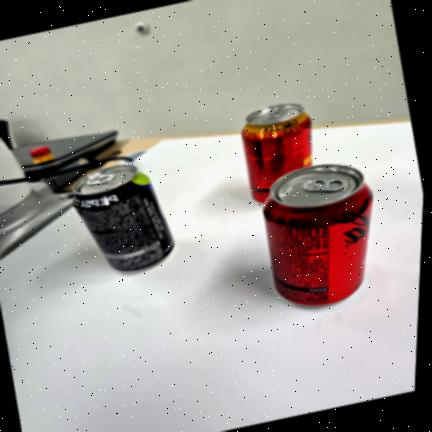can_coke_decaf: (242, 104, 311, 203)
can_coke_zero: (263, 164, 373, 305)
can_pepsi_zero: (73, 164, 174, 271)
